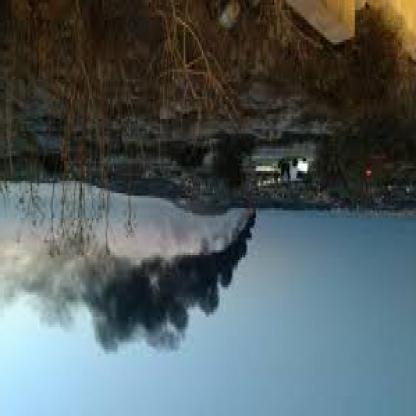Smoke: (5, 214, 259, 360)
